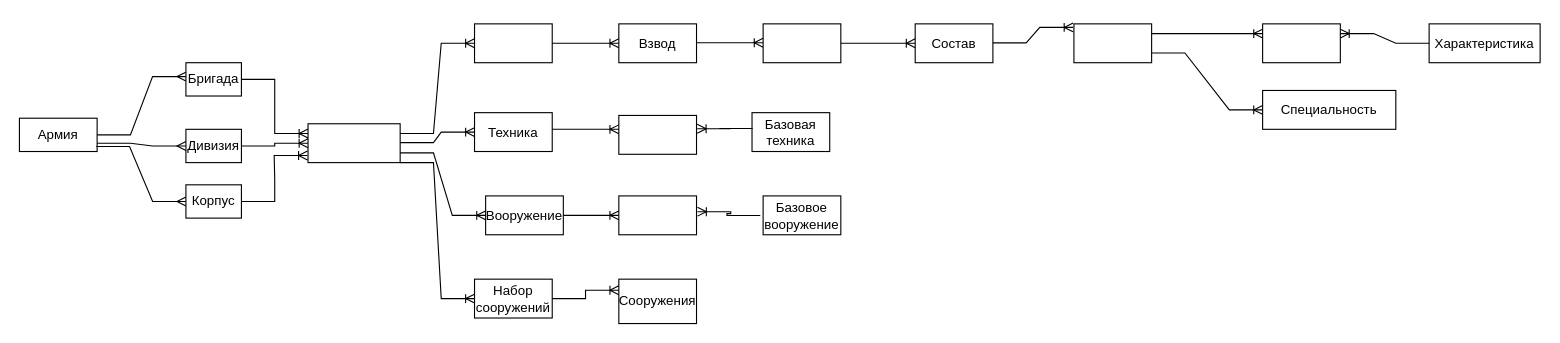
This 1560x343 diagram has some shape labels left out. Each missing label, with the centre of its shape:
"Воинская часть" belongs at (353,143).
"Отделение" belongs at (801,43).
"Рота" belongs at (512,43).
"Служащий" belongs at (1112,43).
"Хар. вооружения" belongs at (657,215).
"Хар. служащего" belongs at (1301,43).
"Хар. техники" belongs at (657,134).
